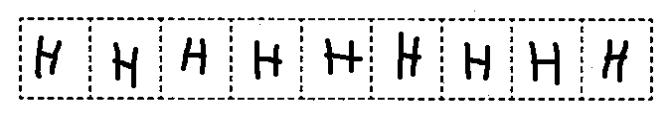H: (522, 37, 566, 92), (28, 30, 66, 83), (391, 27, 426, 84), (107, 38, 142, 94), (318, 36, 364, 78), (458, 36, 496, 86), (594, 35, 632, 84), (246, 36, 284, 84), (174, 34, 213, 77)
